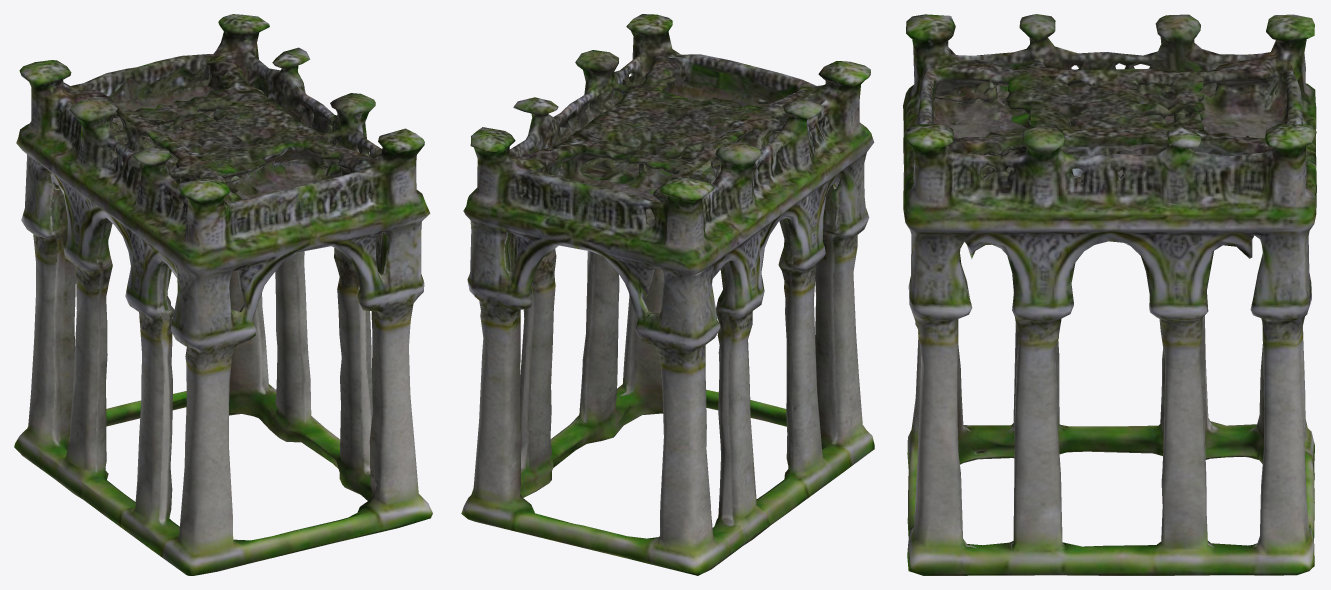
The model's file is 08d312c6ec67_renaissance_garden_.fbx.
The picture shows the model from 3 angles, left to right: view 1: azimuth 30°, elevation 25°; view 2: azimuth 150°, elevation 25°; view 3: azimuth 270°, elevation 25°; orthographic projection. The views are drawn at different scales.
Visible parts, largest first — view 1: mesh; view 2: mesh; view 3: mesh.
Part boxes in pixels (x1,y1,x2,y2): mesh: (14,14,432,575); mesh: (461,14,874,575); mesh: (903,14,1316,575).
Size of the model in its own units: 65.72 by 100 by 84.52.
